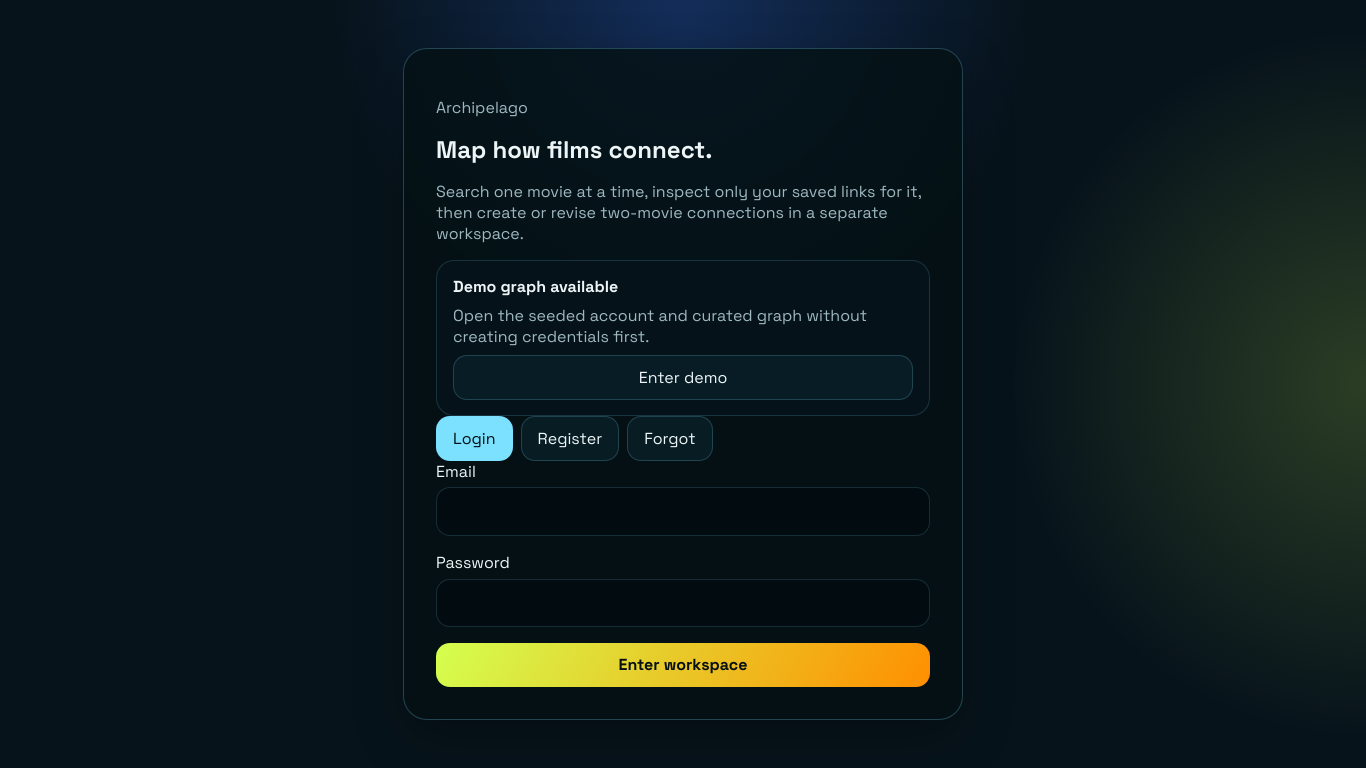
App › opens the seeded demo session from the auth screen
This screenshot has width=1366, height=768.
Expected: the heading "Map how films connect." is shown, [436,134,712,165]
What coordinates should you click on to do the following:
click the button "Enter demo"
I would click on:
 (683, 378)
Its box is [453,355,913,400].
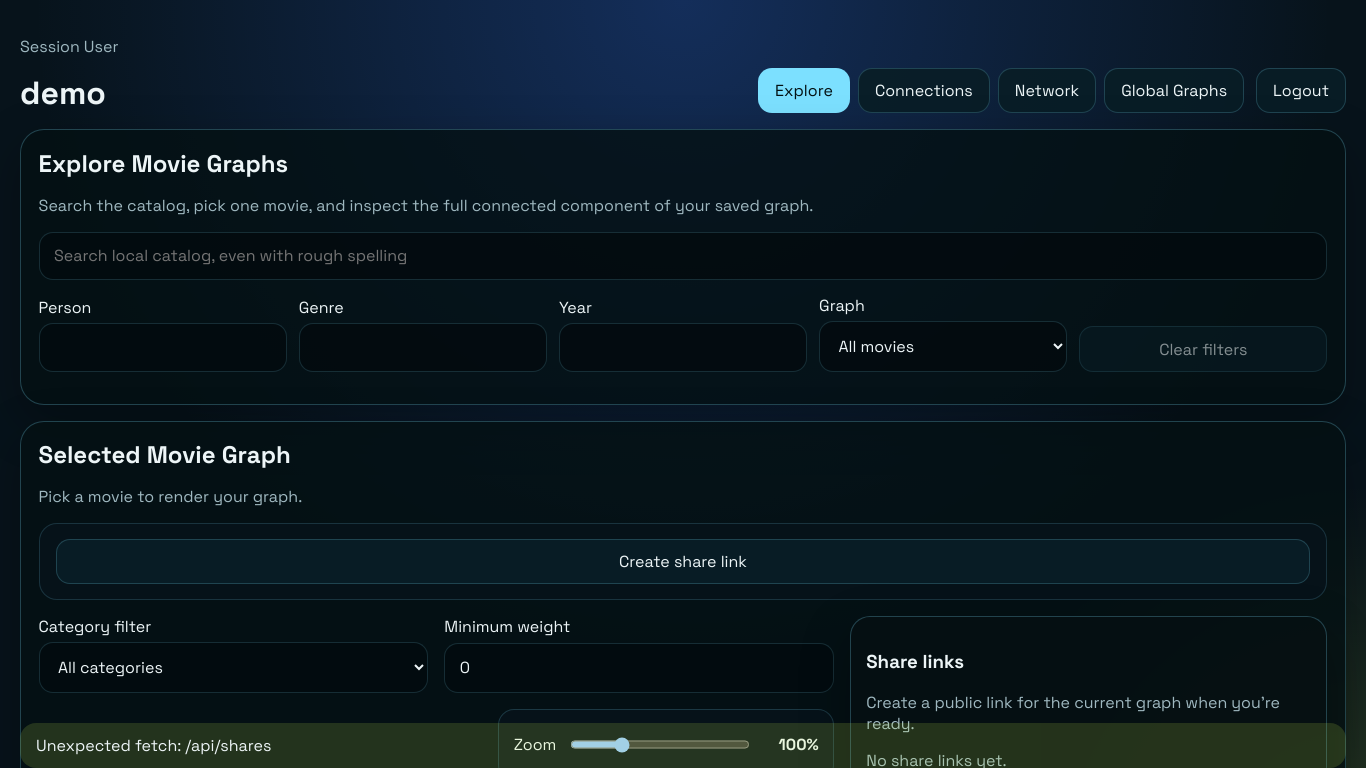
Expected: the heading "Explore Movie Graphs" is shown, [39,148,288,179]
Expected: the heading "demo" is shown, [20,73,106,113]
